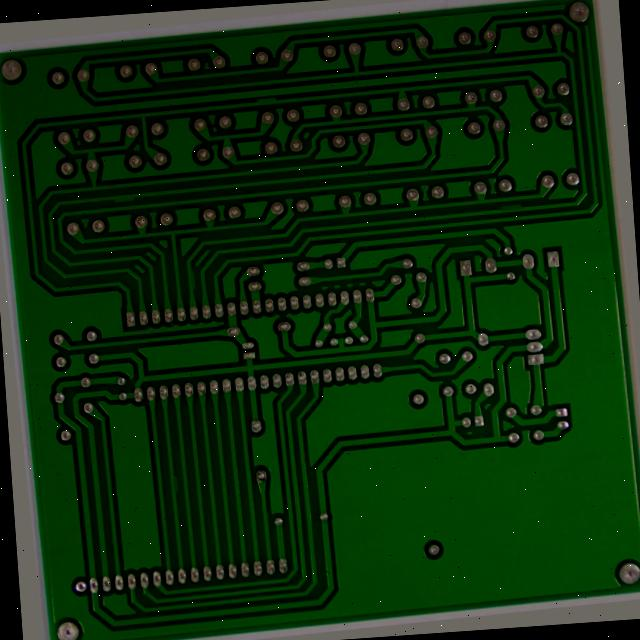spur: (505, 202, 538, 218), (107, 180, 136, 195), (181, 261, 196, 288), (259, 84, 285, 98), (157, 473, 170, 494)
